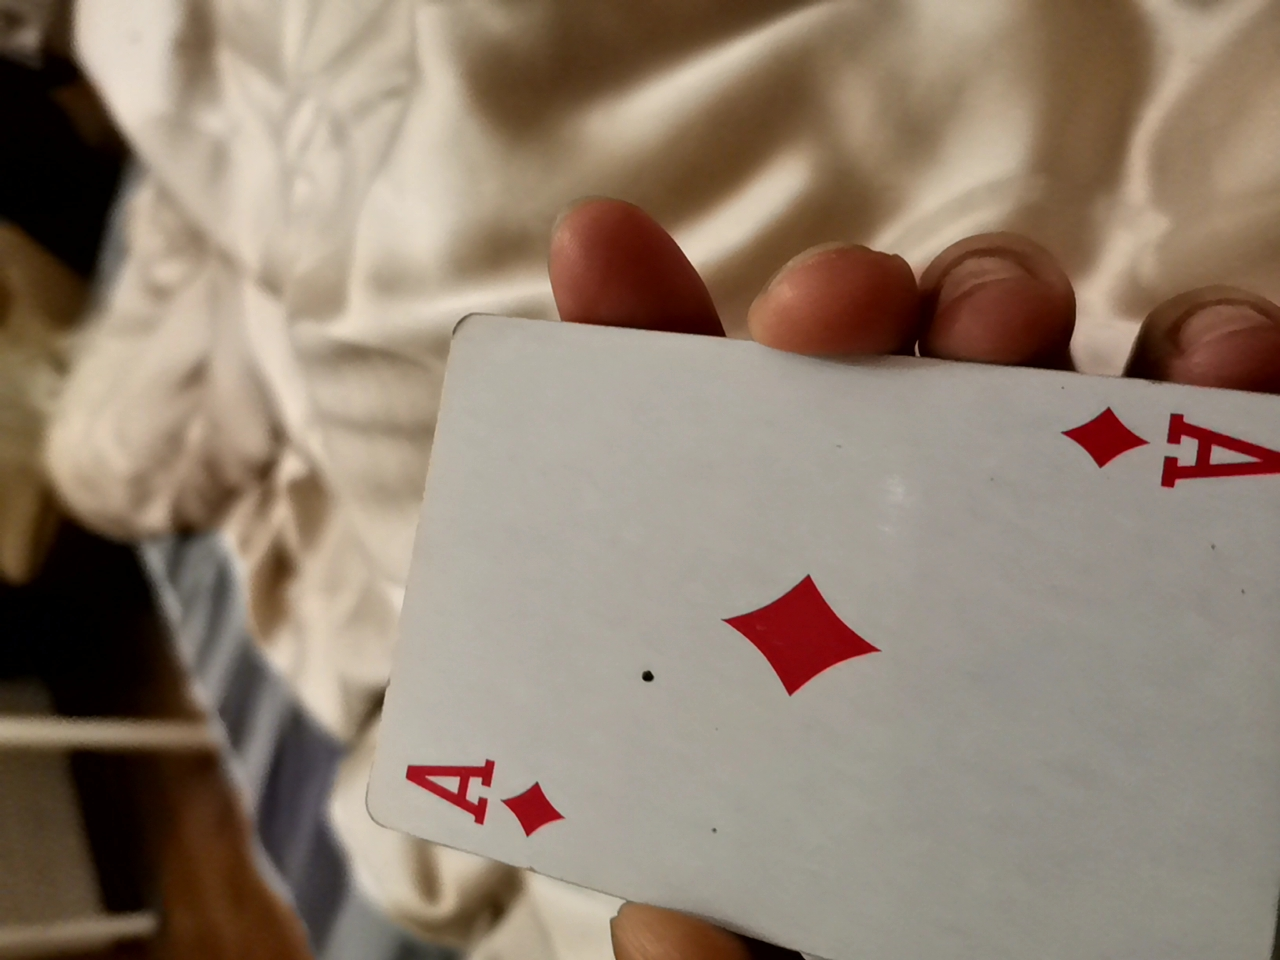fk a: (335, 308, 1279, 950)
